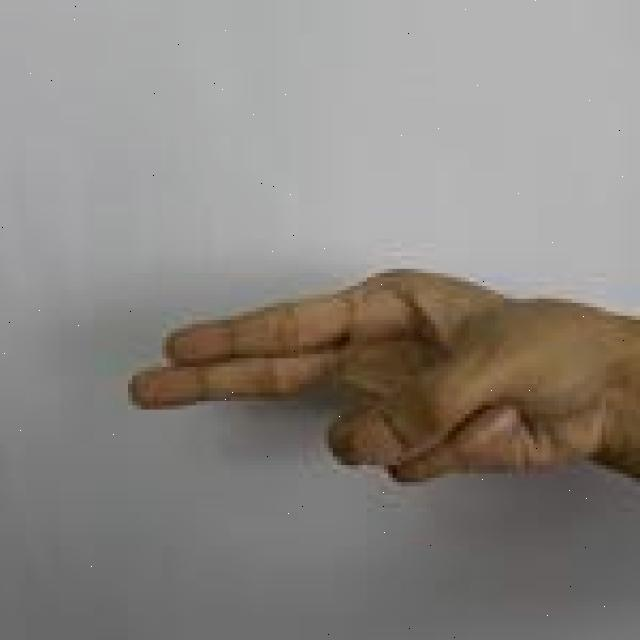H: (118, 262, 640, 494)
